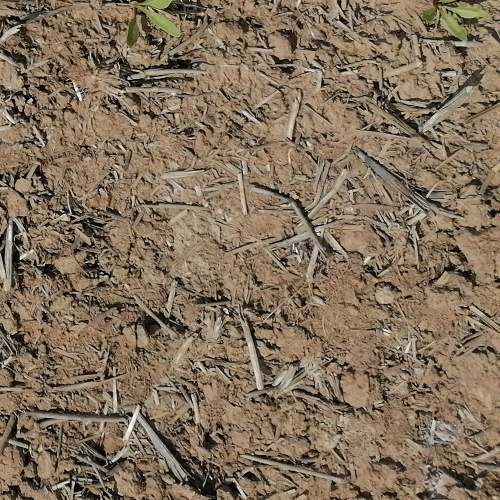beet: (417, 0, 483, 41), (126, 0, 180, 44)
